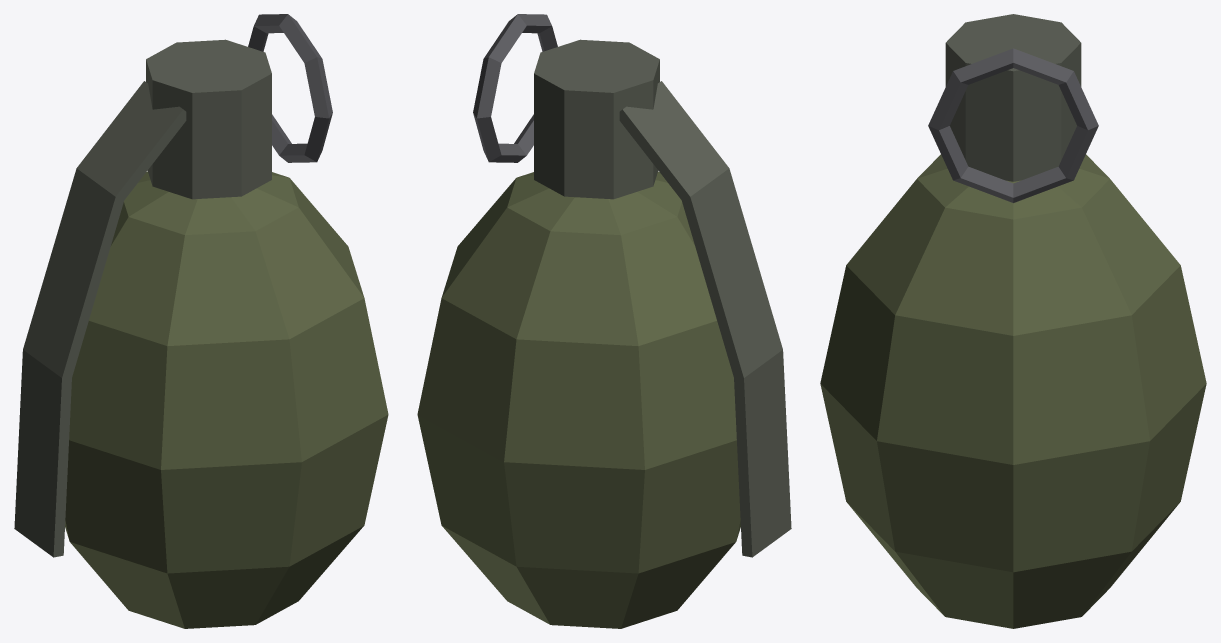
File: m26_grenade.glb
3 renders of one model, left to right at view 1: azimuth 30°, elevation 25°; view 2: azimuth 150°, elevation 25°; view 3: azimuth 270°, elevation 25°, orthographic. The views are drawn at different scales.
Parts seen in each view (by area): view 1: M26_Grenade; view 2: M26_Grenade; view 3: M26_Grenade.
Boxes of the visible parts, x1,y1,x2,y2 form: M26_Grenade: (14,14,388,628); M26_Grenade: (417,14,791,628); M26_Grenade: (820,14,1206,628).
Bounding box in the file's own units: 0.0588 × 0.0983 × 0.0563.
